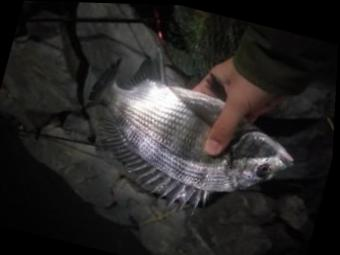fish: (84, 55, 295, 215)
